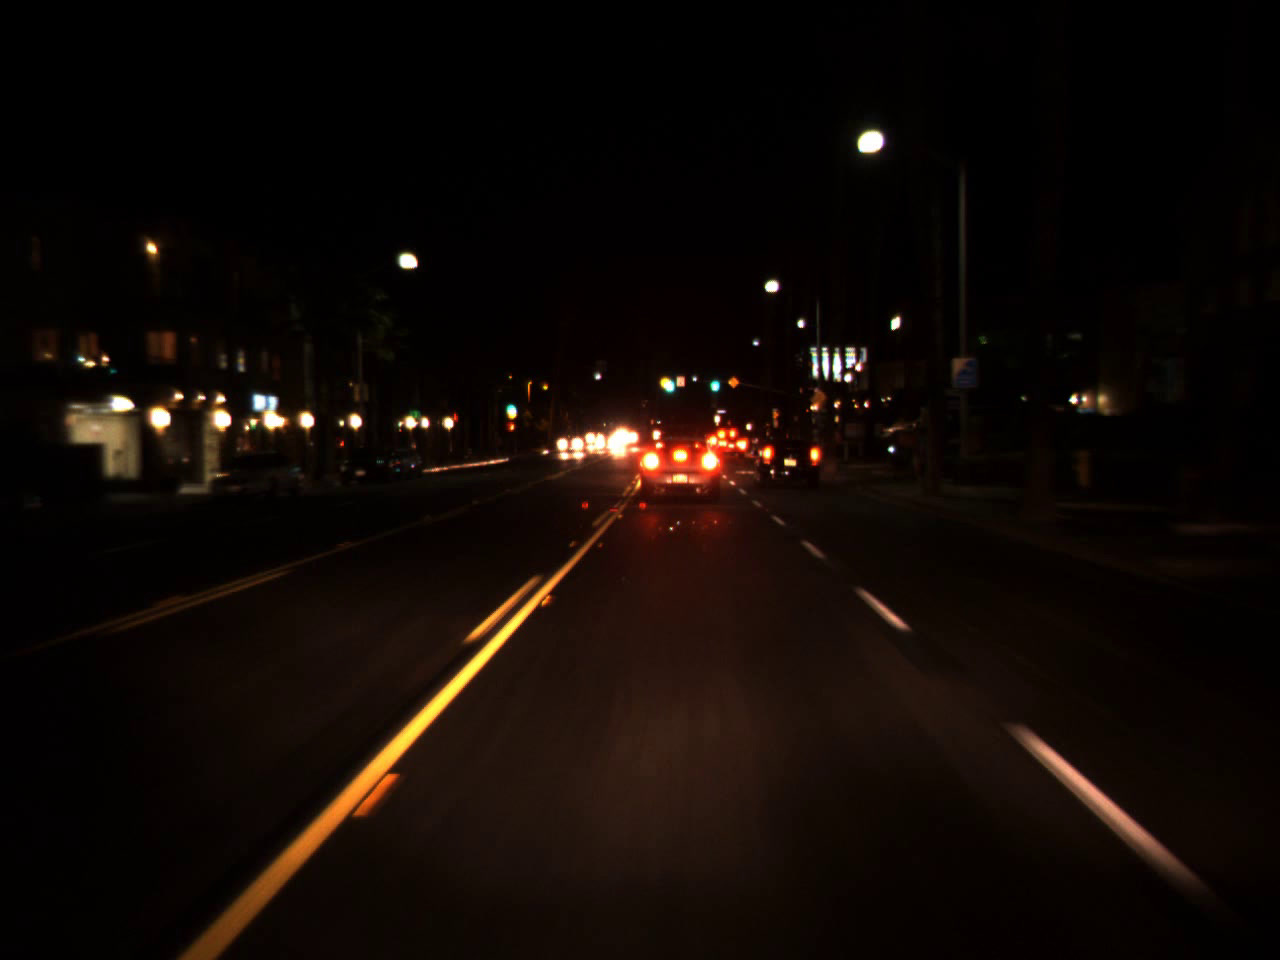go: (707, 368, 721, 395), (659, 375, 675, 393), (502, 399, 518, 411)
